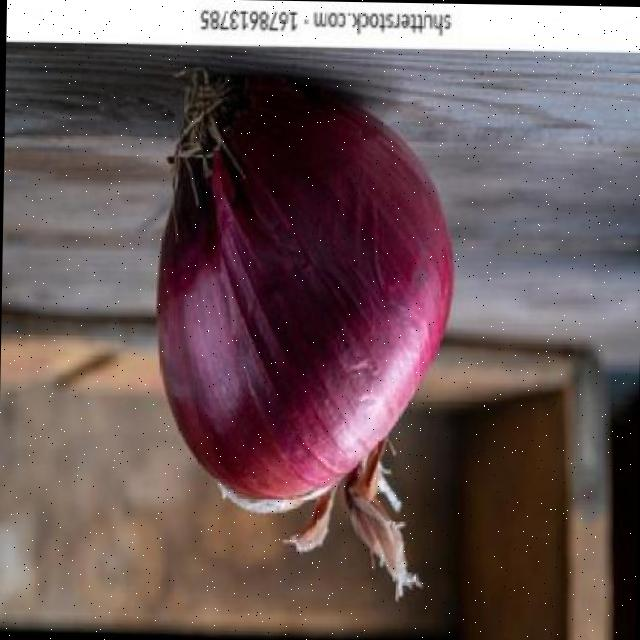Onion: (156, 68, 452, 596)
